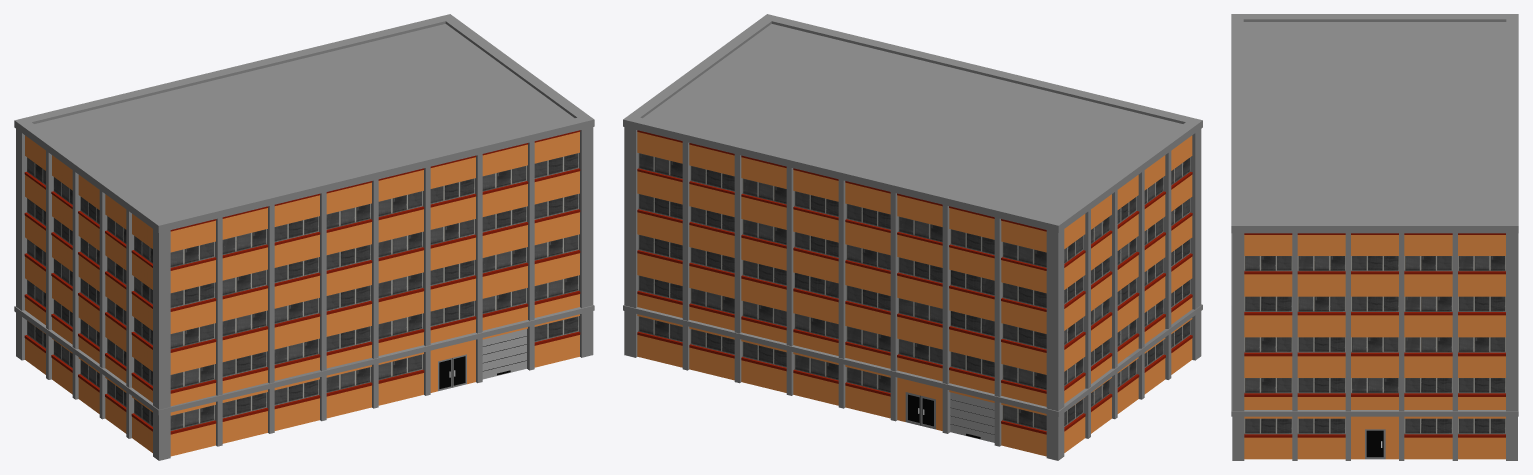
The picture shows the model from 3 angles, left to right: view 1: azimuth 30°, elevation 25°; view 2: azimuth 150°, elevation 25°; view 3: azimuth 270°, elevation 25°; orthographic projection.
Parts seen in each view (by area): view 1: BB-02; view 2: BB-02; view 3: BB-02.
Part boxes in pixels (box(x1,y1,x2,y2)): BB-02: box(14, 14, 594, 460); BB-02: box(623, 14, 1202, 460); BB-02: box(1231, 14, 1518, 460).
Size of what is drawn, in the model's own units: 33.53 by 17.33 by 19.21.
